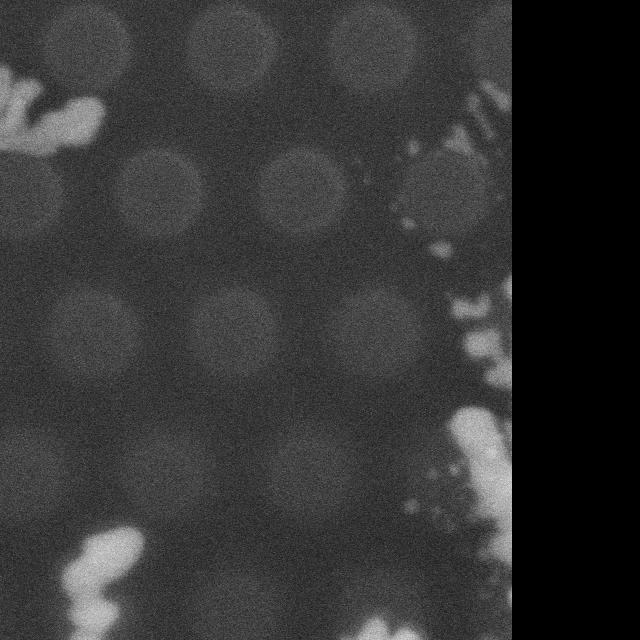Dendrite: (402, 407, 511, 611), (0, 65, 104, 230), (451, 273, 511, 393), (447, 80, 511, 157), (428, 242, 453, 261), (405, 137, 421, 156), (408, 224, 410, 224)
